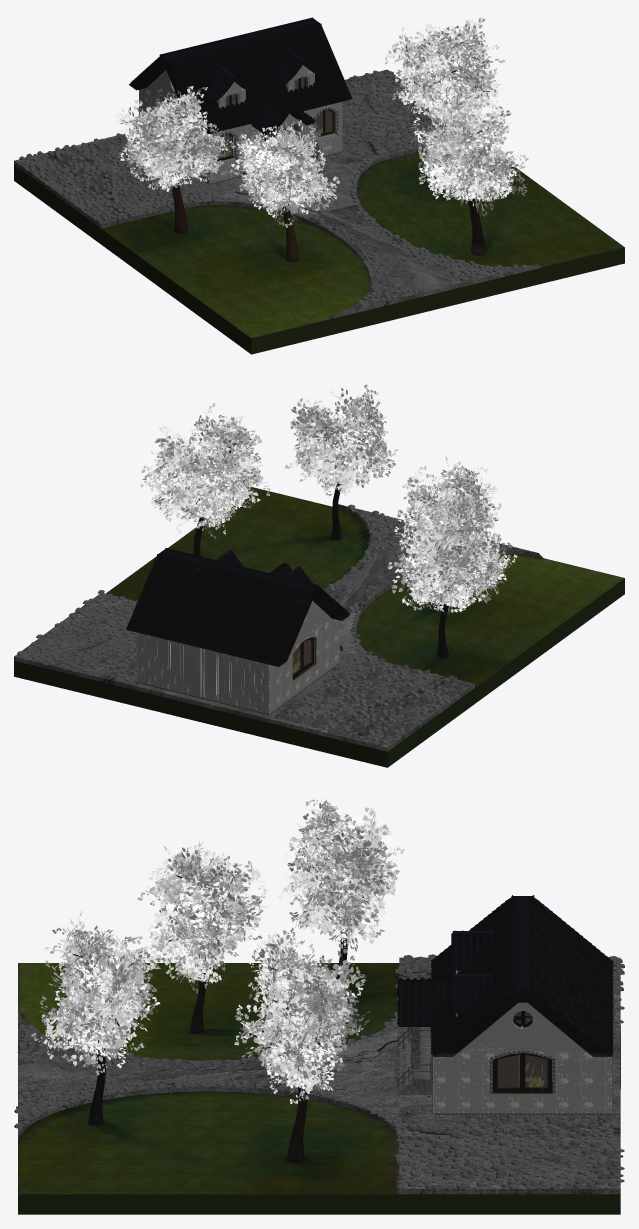
File: domek.glb
3 renders of one model, top to bottom at view 1: azimuth 30°, elevation 25°; view 2: azimuth 150°, elevation 25°; view 3: azimuth 270°, elevation 25°, orthographic. The views are drawn at different scales.
Visible parts, largest first — view 1: Plane.970, Plane.002, Plane.001; view 2: Plane.970; view 3: Plane.970, Plane.002, Plane.003.
Part boxes in pixels (box(x1,y1,x2,y2)): Plane.970: box(14, 17, 624, 354); Plane.002: box(205, 47, 324, 101); Plane.001: box(251, 87, 288, 134); Plane.970: box(14, 384, 624, 767); Plane.970: box(14, 799, 624, 1214); Plane.002: box(451, 930, 496, 1014); Plane.003: box(397, 981, 451, 1025).
Bounding box in the file's own units: 9.46 × 4.31 × 10.22.
12 materials, 8 textured.
